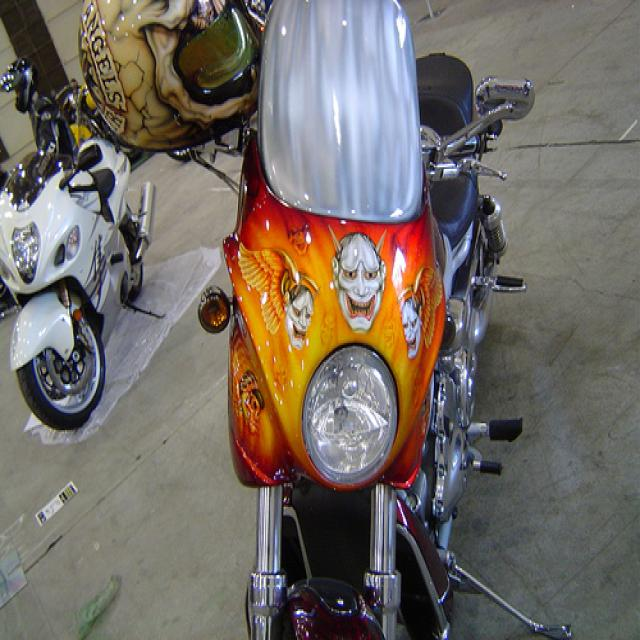motorbike: (160, 52, 573, 639), (1, 138, 169, 431)
